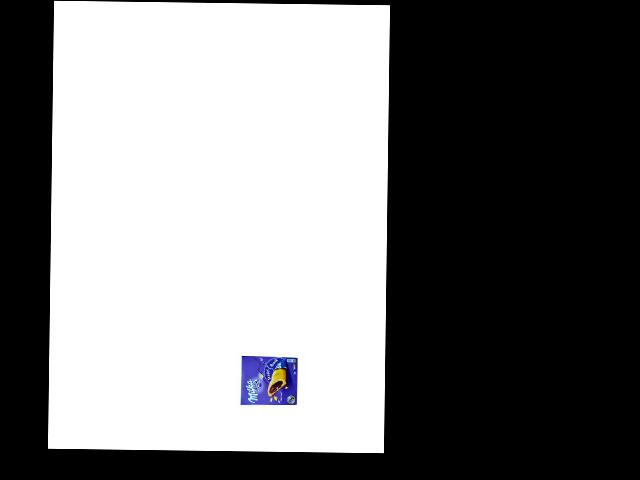chocolate: (237, 353, 301, 408)
